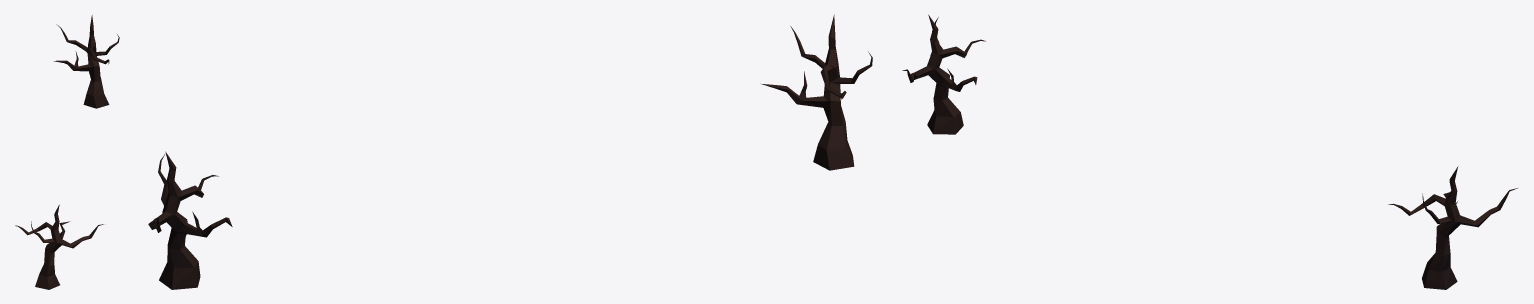
The model's file is Tree_01.FBX.
The picture shows the model from 3 angles, left to right: view 1: azimuth 30°, elevation 25°; view 2: azimuth 150°, elevation 25°; view 3: azimuth 270°, elevation 25°; orthographic projection. The views are drawn at different scales.
Visible parts, largest first — view 1: Tree_01; view 2: Tree_01; view 3: Tree_01.
Part boxes in pixels (x1,y1,x2,y2): Tree_01: (15, 15, 119, 289); Tree_01: (148, 14, 872, 289); Tree_01: (902, 14, 1517, 289).
Bounding box in the file's own units: 12.45 × 3.81 × 18.03.
